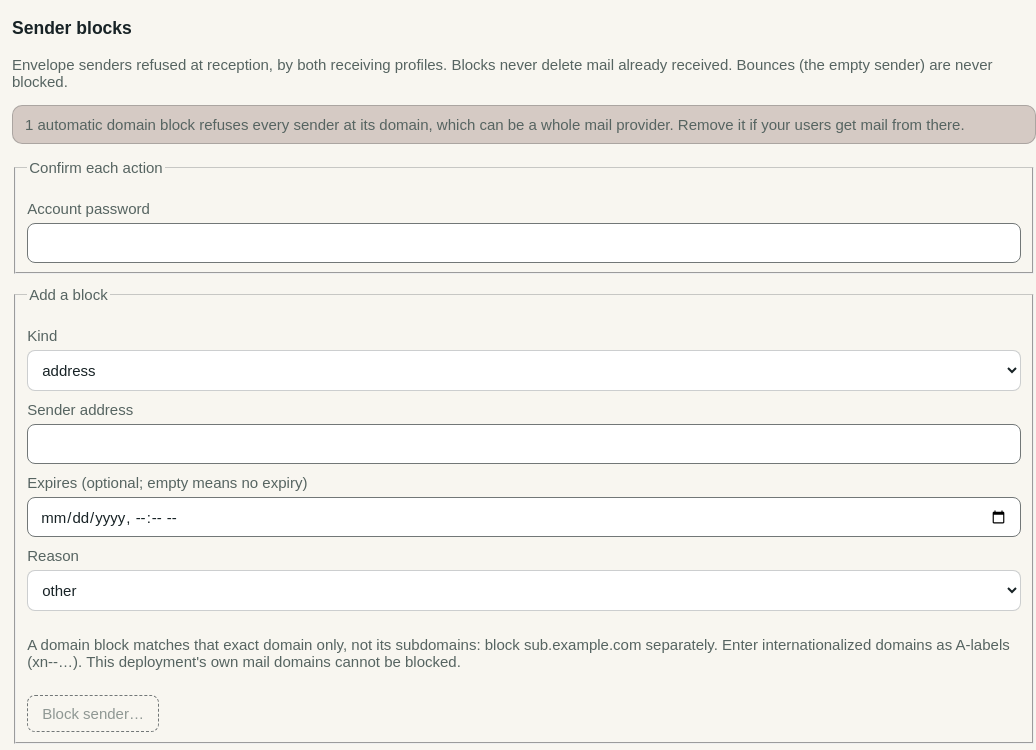
Test: sends no until for an empty expiry
Step 1. Type "account-secret" into the password field labelled "Account password" → (524, 243), box 27,223 -> 1021,263
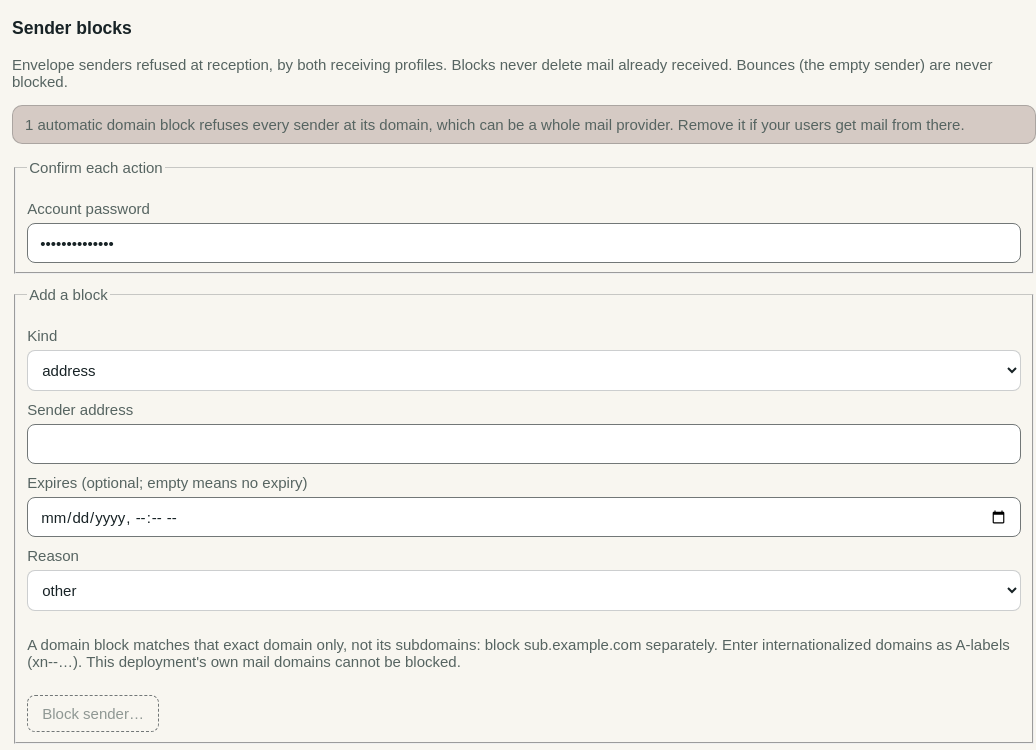
Step 2. Select "address" in the dropdown labelled "Kind" → (524, 371), box 27,350 -> 1021,392
Step 3. Type "x@bad.example" into the field labelled "Sender address" → (524, 444), box 27,424 -> 1021,464
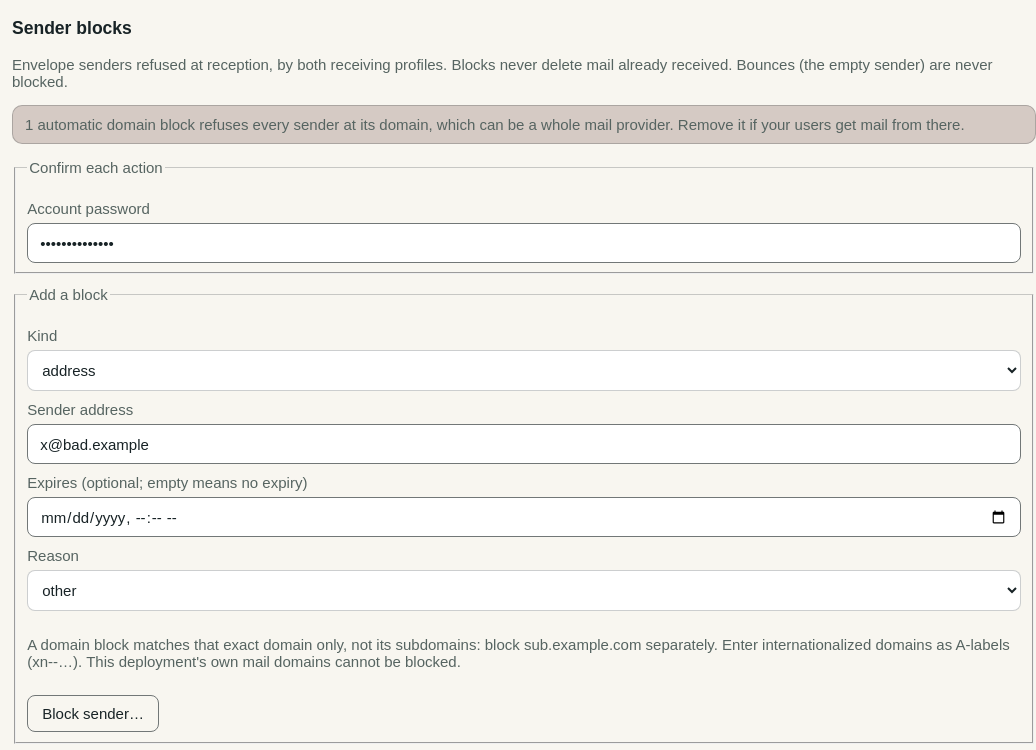
Step 4. Select "spam" in the dropdown labelled "Reason" → (524, 591), box 27,570 -> 1021,612
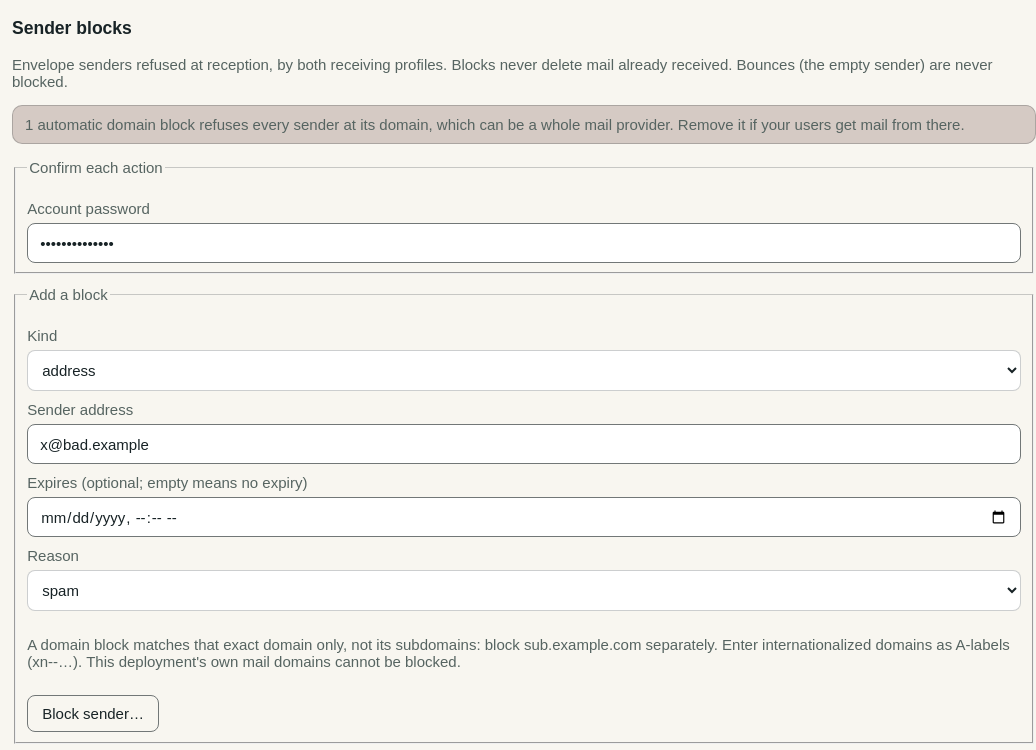
Step 5. Click the button "Block sender…" → (93, 714), box 27,696 -> 159,732
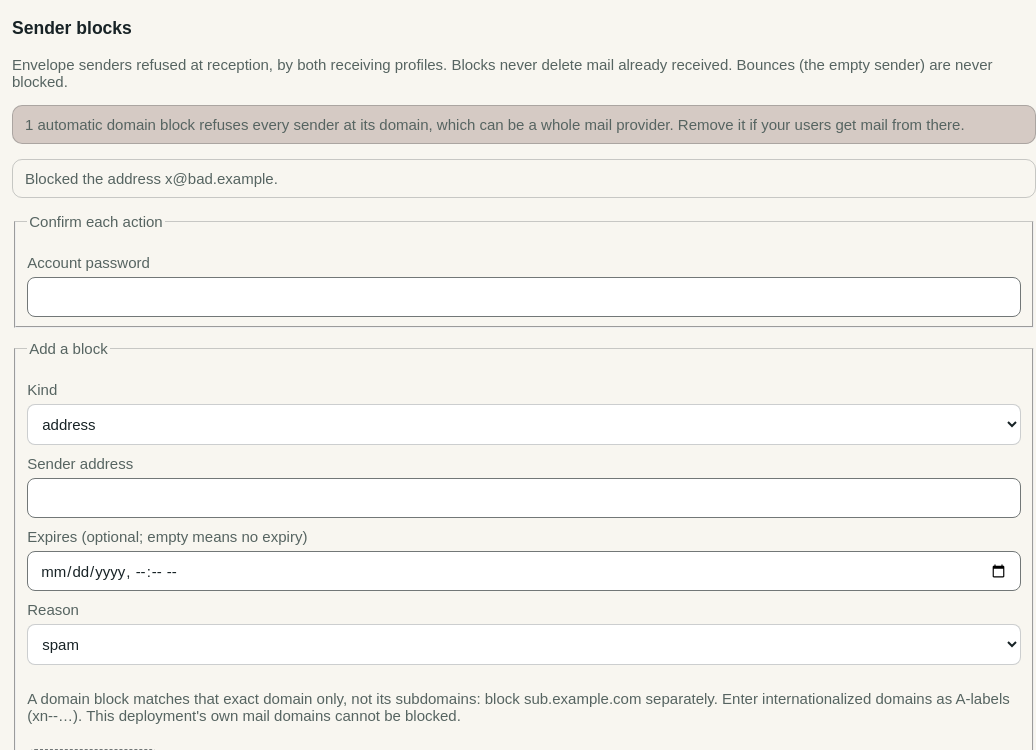
Now the text "Blocked the address x@bad.example." is shown, box 12,159 -> 1035,198
